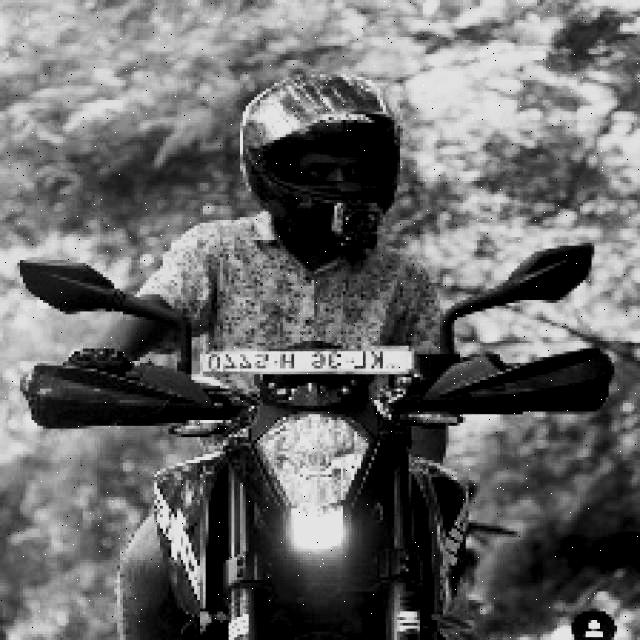Bike: (38, 328, 604, 640)
